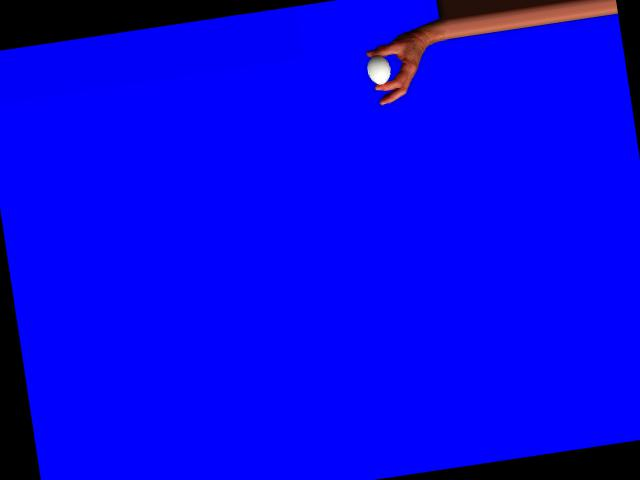egg: (364, 53, 392, 86)
